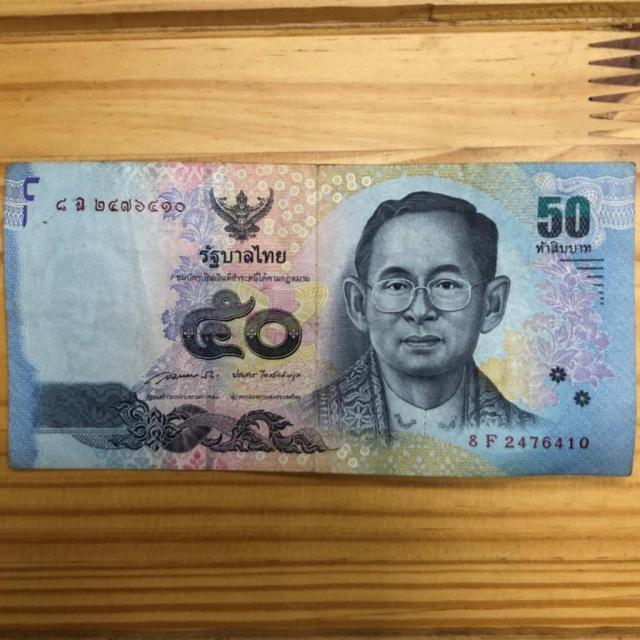THAI50: (4, 162, 634, 476)
